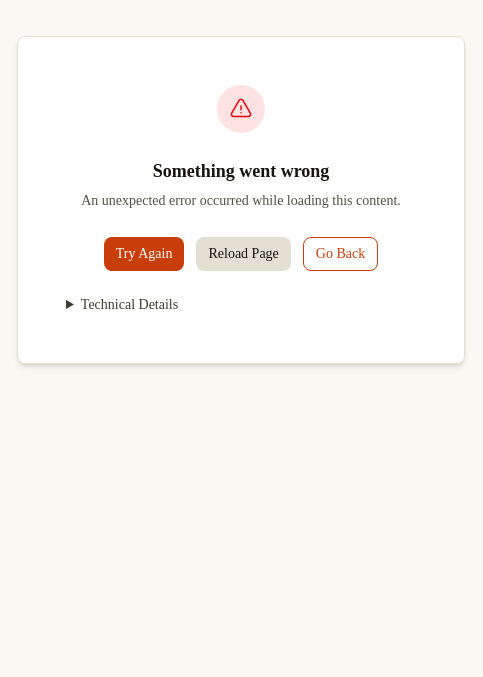
it: ErrorFallback component › Error details › displays component stack when errorInfo is provided
// Click to expand details
Click the heading "Technical Details": coordinates (130, 305) [81,297,178,312]
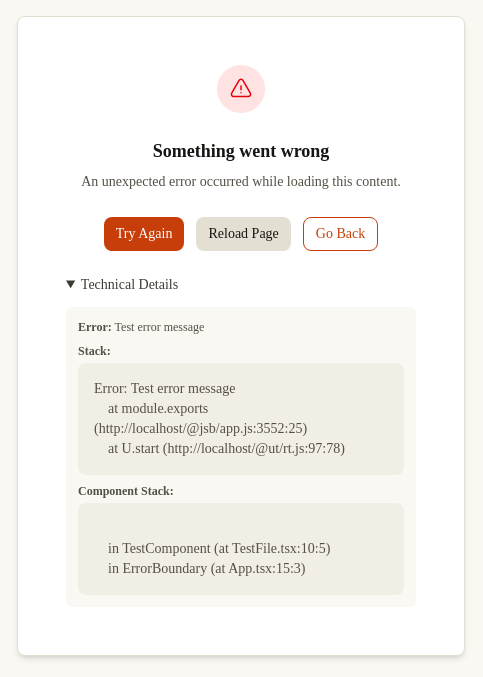
Now the text "in TestComponent" is shown, box [94,541,330,576]
